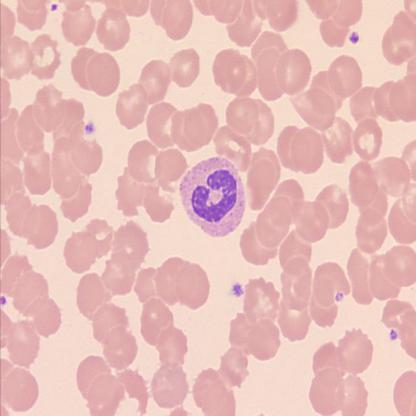Band Neutrophil: (178, 153, 248, 239)
